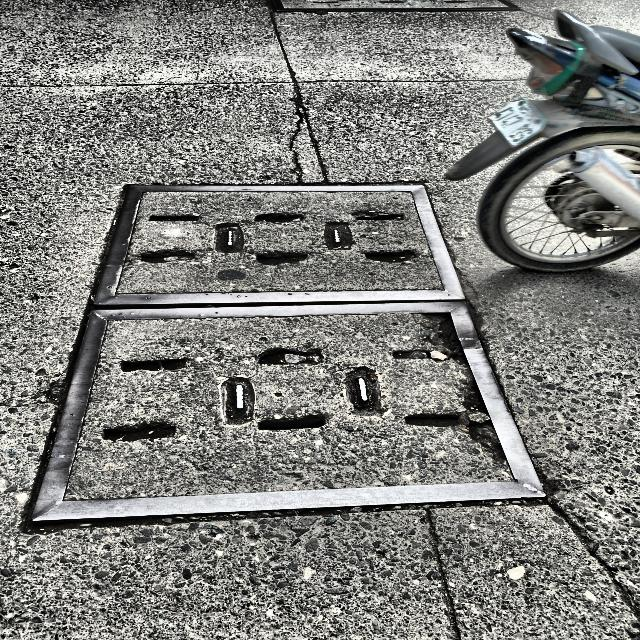major_scaling: (0, 84, 287, 493), (3, 505, 617, 640)
